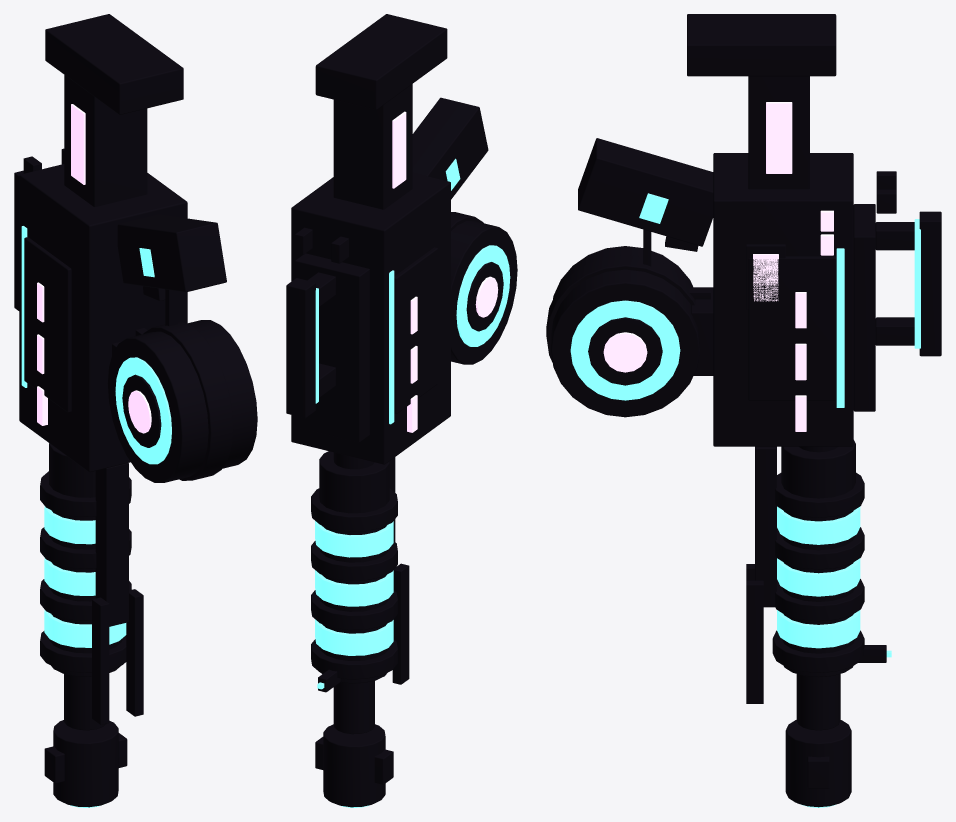
Rendered from CyberSurgeLMG.fbx.
3 renders of one model, left to right at view 1: azimuth 30°, elevation 25°; view 2: azimuth 150°, elevation 25°; view 3: azimuth 270°, elevation 25°, orthographic. The views are drawn at different scales.
Visible parts, largest first — view 1: CSL_main heavy receiver, CSL_ammo drum housing, CSL_stock shoulder pad, CSL_stock frame, CSL_pistol grip, CSL_receiver side armor plates, CSL_muzzle heavy brake, CSL_shroud cooling fins, CSL_underbarrel support rail, CSL_folded bipod legs, CSL_drum armor band, CSL_cyan surge coils (+10 smaller); view 2: CSL_main heavy receiver, CSL_top feed cover plate, CSL_stock shoulder pad, CSL_shroud cooling fins, CSL_stock frame, CSL_receiver side armor plates, CSL_cyan surge coils, CSL_barrel shroud, CSL_muzzle heavy brake, CSL_top carry handle, CSL_pistol grip, CSL_ammo drum housing (+10 smaller); view 3: CSL_main heavy receiver, CSL_receiver side armor plates, CSL_ammo drum housing, CSL_stock shoulder pad, CSL_pistol grip, CSL_shroud cooling fins, CSL_cyan surge coils, CSL_barrel shroud, CSL_top carry handle, CSL_stock frame, CSL_muzzle heavy brake, CSL_cyan drum energy ring (+14 smaller).
Part boxes in pixels (left/top/right/bottom): CSL_main heavy receiver: left=19, top=164, right=187, bottom=472; CSL_ammo drum housing: left=107, top=320, right=257, bottom=482; CSL_stock shoulder pad: left=45, top=14, right=183, bottom=114; CSL_stock frame: left=64, top=75, right=147, bottom=206; CSL_pistol grip: left=117, top=214, right=226, bottom=292; CSL_receiver side armor plates: left=24, top=237, right=71, bottom=412; CSL_muzzle heavy brake: left=44, top=720, right=127, bottom=806; CSL_shroud cooling fins: left=40, top=471, right=131, bottom=672; CSL_underbarrel support rail: left=95, top=463, right=128, bottom=626; CSL_folded bipod legs: left=92, top=589, right=143, bottom=724; CSL_drum armor band: left=143, top=322, right=233, bottom=480; CSL_cyan surge coils: left=44, top=506, right=126, bottom=647; CSL_main heavy receiver: left=291, top=173, right=450, bottom=464; CSL_top feed cover plate: left=295, top=253, right=369, bottom=442; CSL_stock shoulder pad: left=315, top=14, right=447, bottom=109; CSL_shroud cooling fins: left=311, top=488, right=397, bottom=679; CSL_stock frame: left=333, top=84, right=412, bottom=209; CSL_receiver side armor plates: left=394, top=247, right=437, bottom=413; CSL_cyan surge coils: left=315, top=521, right=393, bottom=655; CSL_barrel shroud: left=319, top=451, right=389, bottom=683; CSL_muzzle heavy brake: left=315, top=724, right=393, bottom=806; CSL_top carry handle: left=286, top=272, right=335, bottom=417; CSL_pistol grip: left=412, top=97, right=488, bottom=199; CSL_ammo drum housing: left=451, top=221, right=517, bottom=364; CSL_main heavy receiver: left=713, top=153, right=853, bottom=446; CSL_receiver side armor plates: left=748, top=256, right=836, bottom=400; CSL_ammo drum housing: left=551, top=246, right=699, bottom=417; CSL_stock shoulder pad: left=687, top=14, right=836, bottom=76; CSL_pistol grip: left=578, top=138, right=713, bottom=246; CSL_shroud cooling fins: left=772, top=472, right=864, bottom=672; CSL_cyan surge coils: left=777, top=506, right=860, bottom=648; CSL_barrel shroud: left=781, top=440, right=855, bottom=677; CSL_top carry handle: left=875, top=211, right=941, bottom=356; CSL_stock frame: left=748, top=76, right=809, bottom=189; CSL_muzzle heavy brake: left=785, top=720, right=851, bottom=806; CSL_cyan drum energy ring: left=570, top=300, right=680, bottom=400.
Size of the model in its own units: 29 by 193 by 90.
